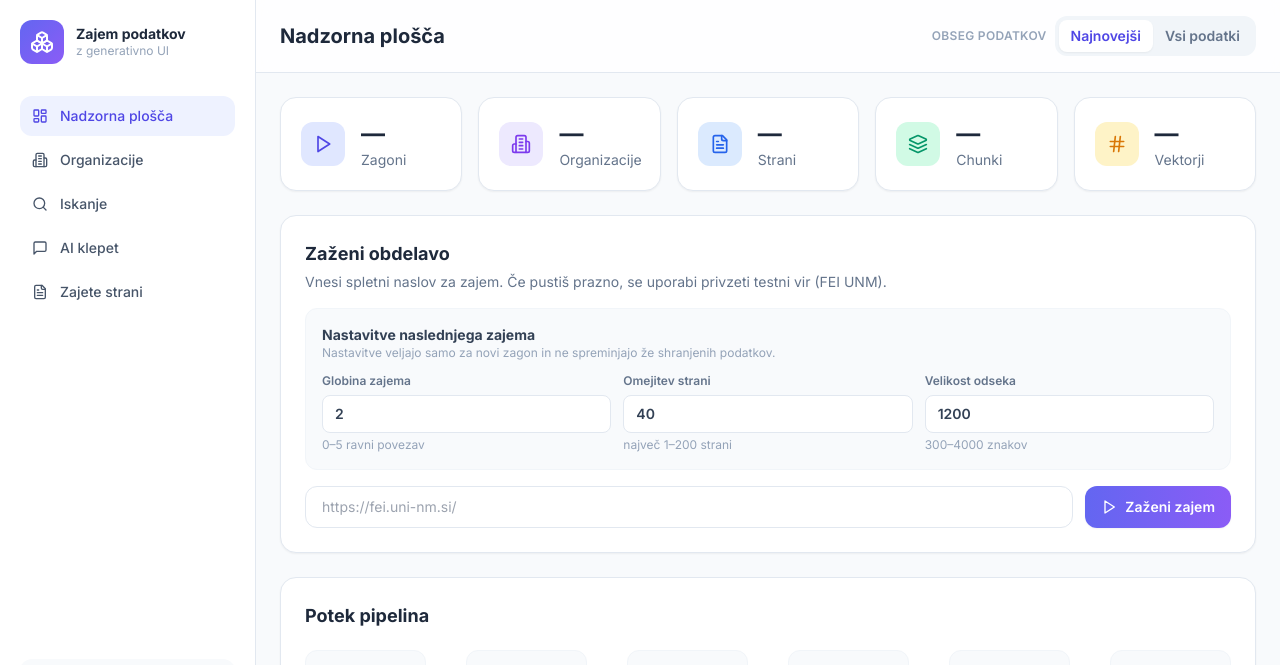
App › odpre seznam organizacij
The width and height of the screenshot is (1280, 665).
Click the button "Organizacije": (128, 160) [20,140,235,180]
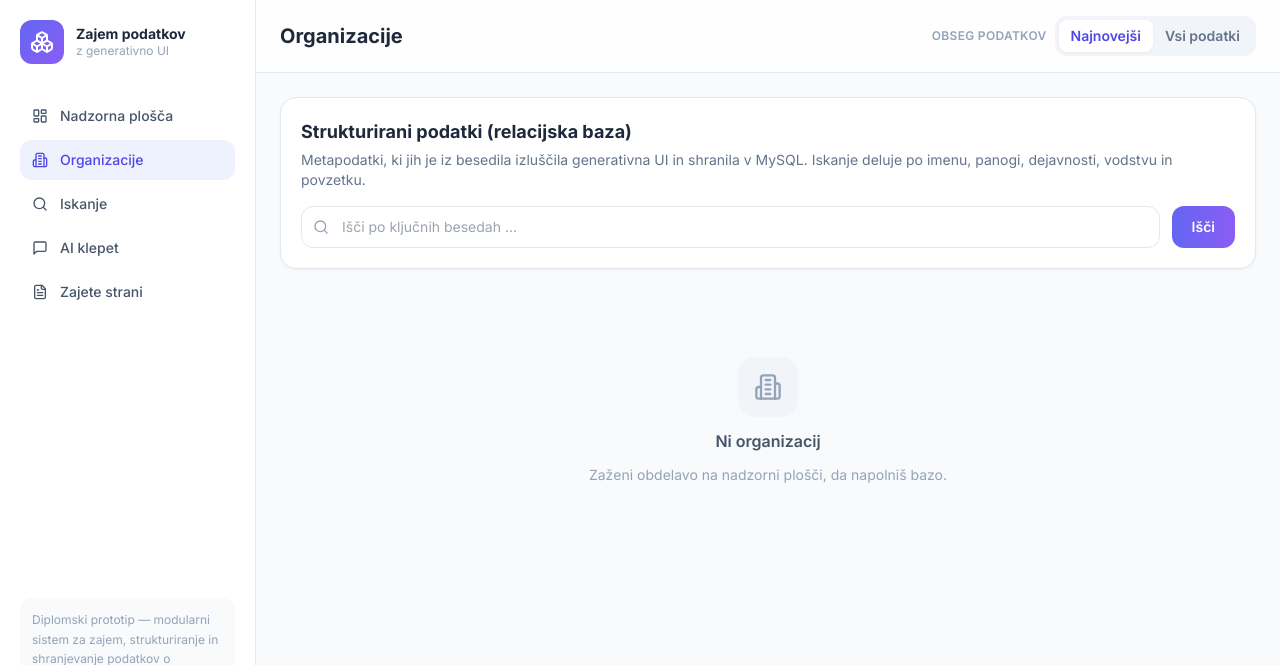
Now the text "Ni organizacij" is shown, box [715,429,821,453]
